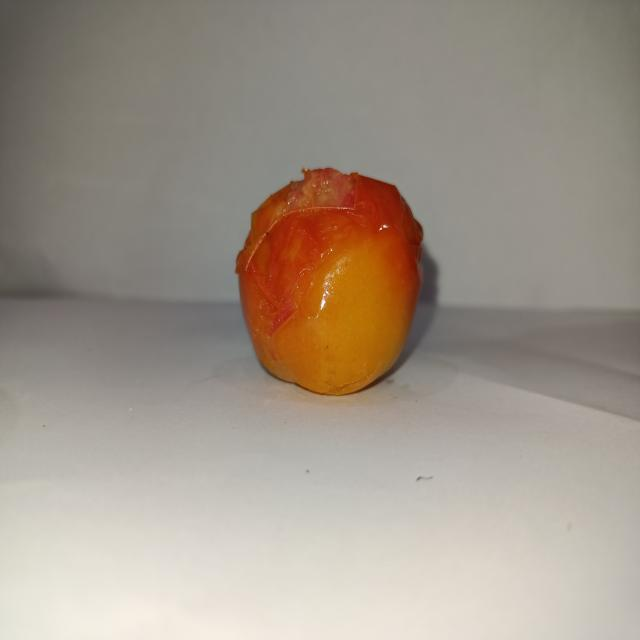Red: (234, 165, 424, 396)
